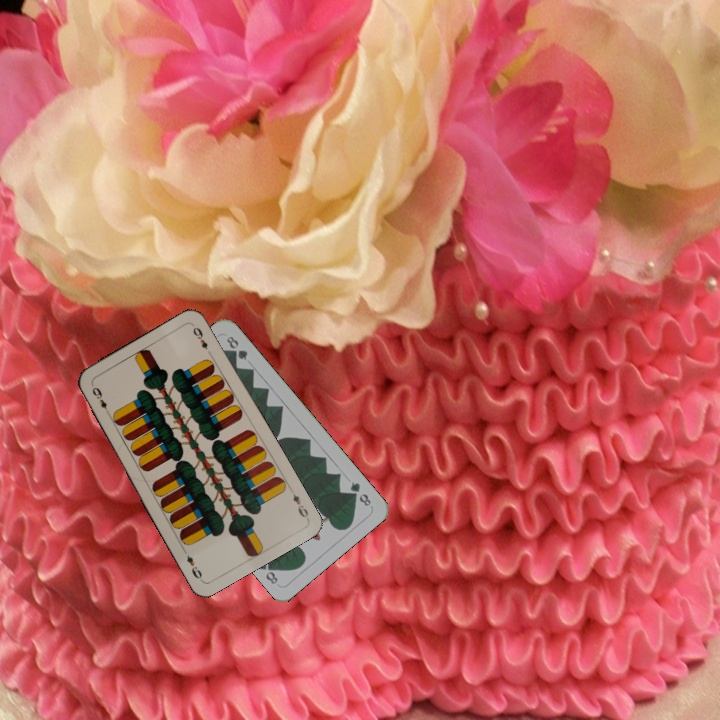E9: (87, 381, 113, 418), (289, 489, 311, 520)
G8: (346, 477, 374, 509)
